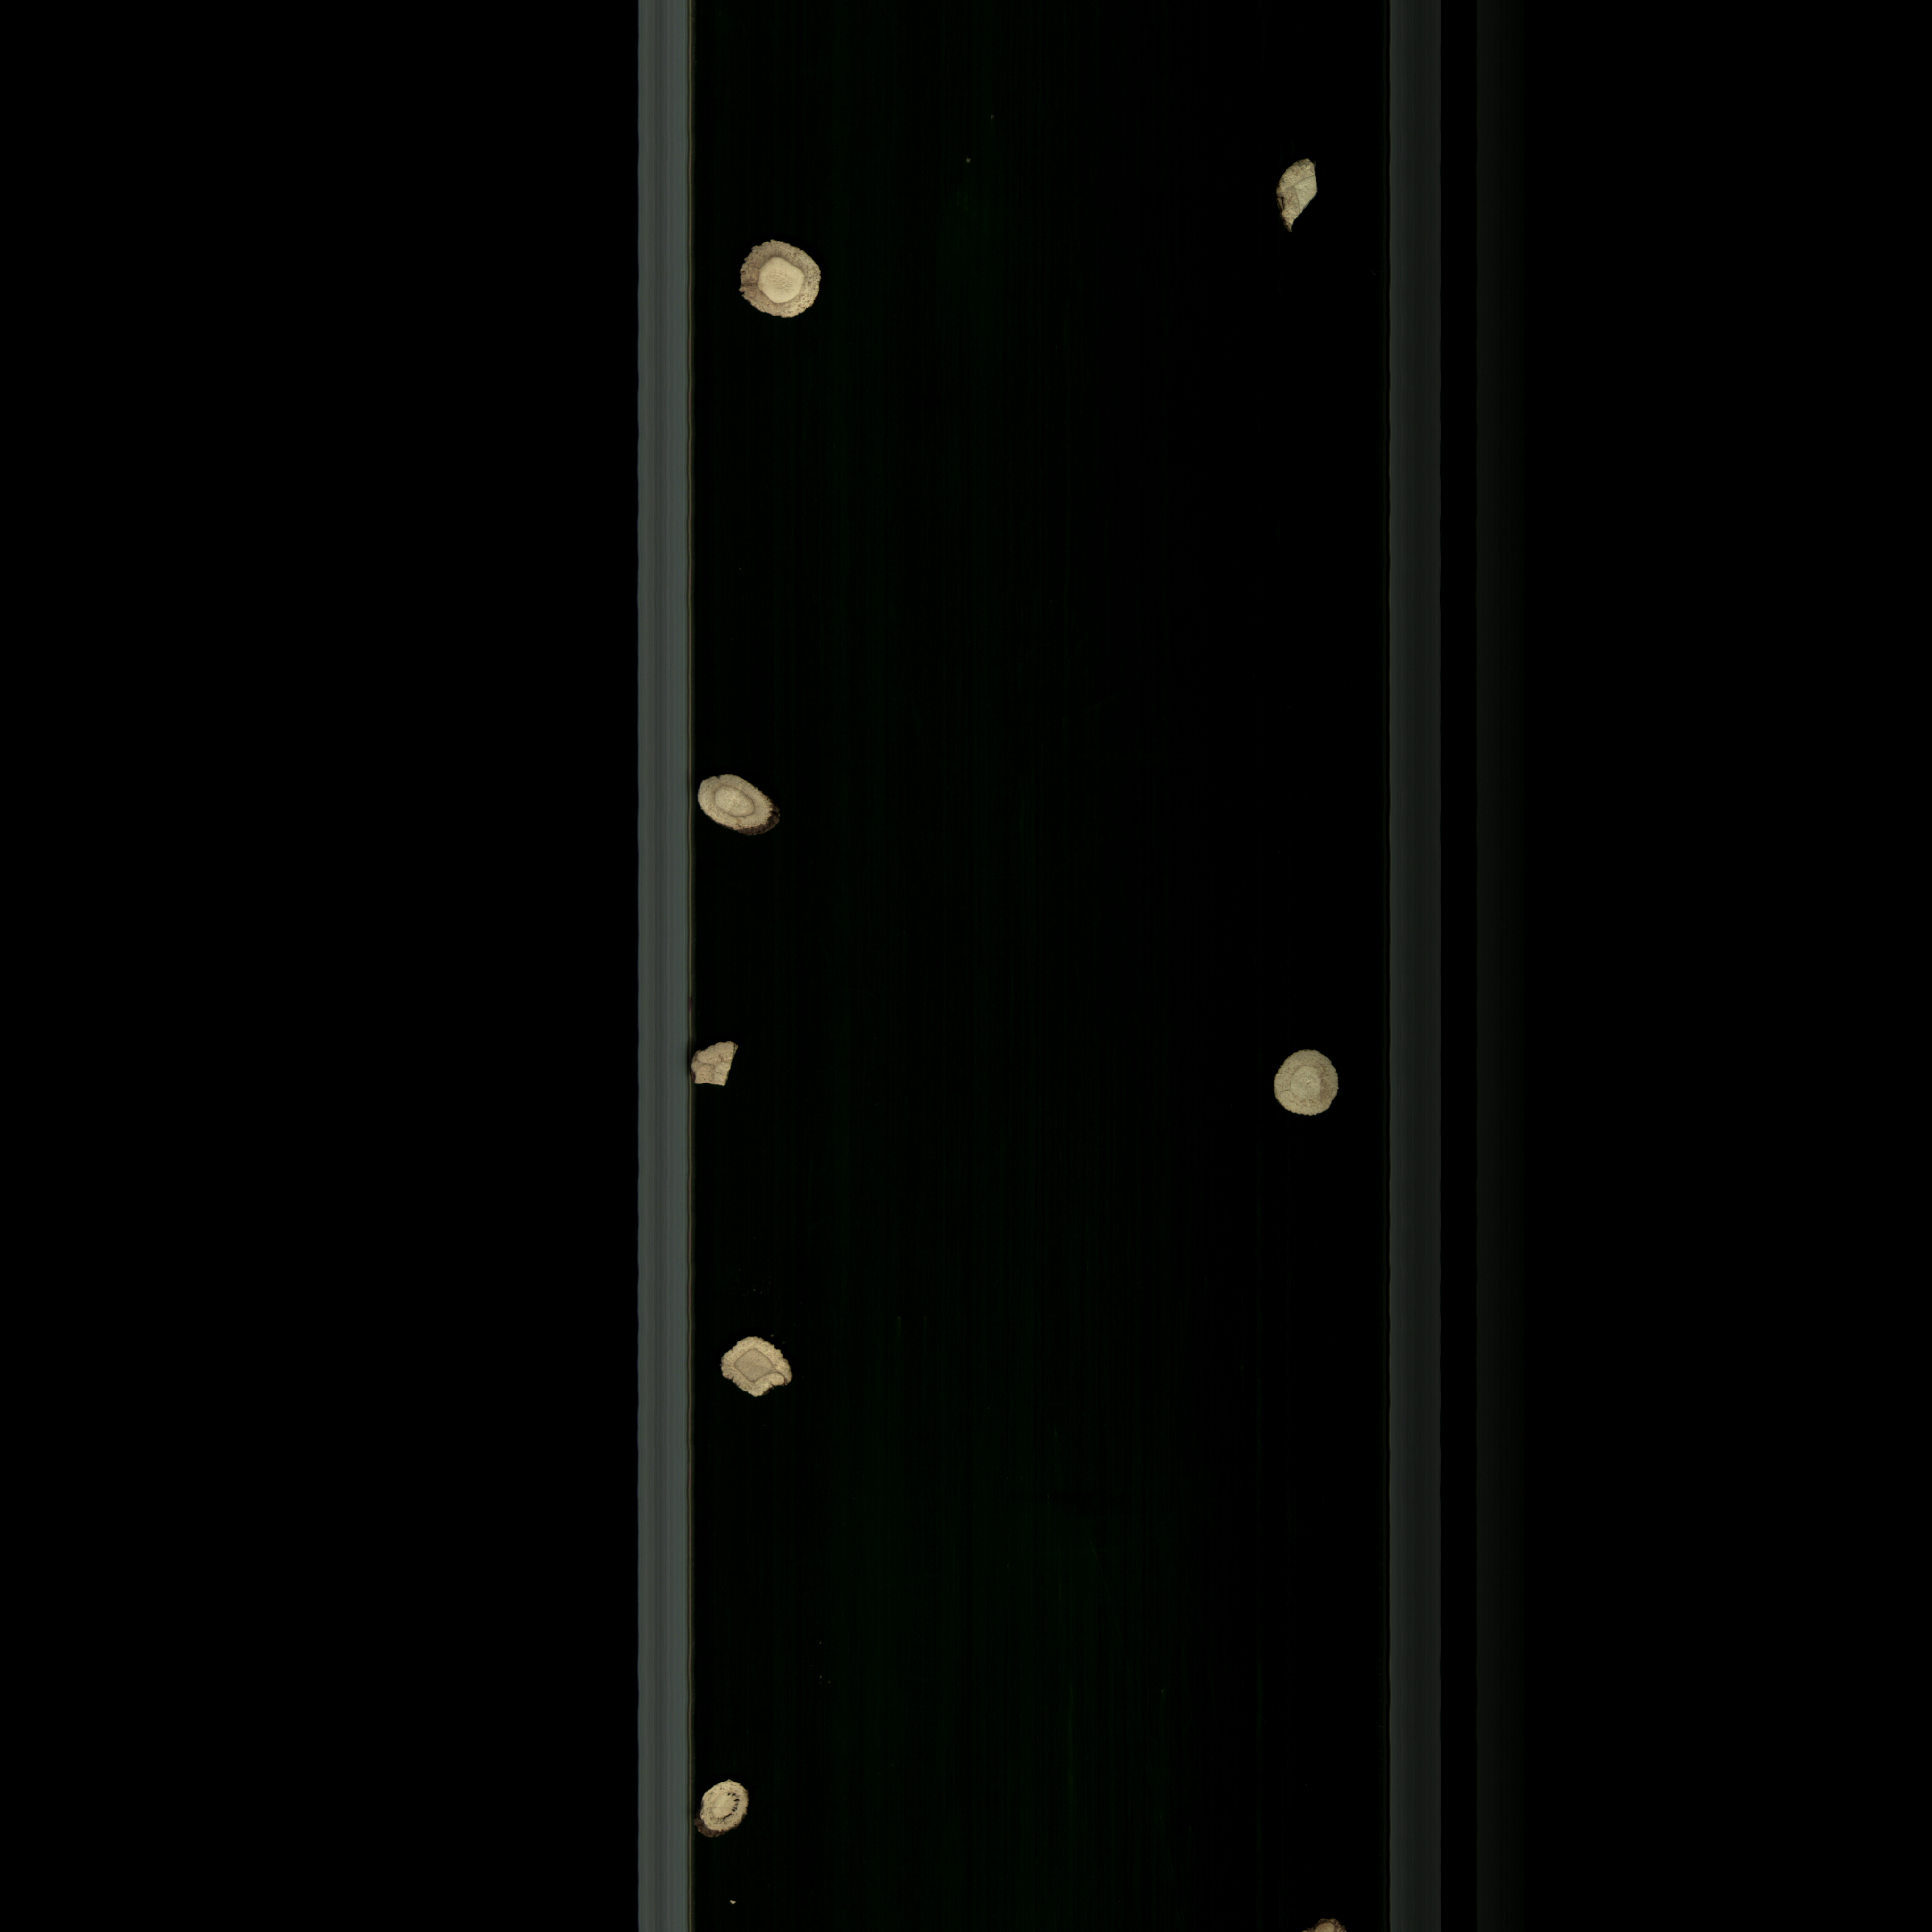debris: (1270, 147, 1327, 241)
distortion: (706, 1322, 805, 1415), (690, 761, 791, 844)
dreg: (690, 1031, 747, 1104)
hole: (695, 1760, 757, 1847)
moldy: (727, 230, 832, 329)
